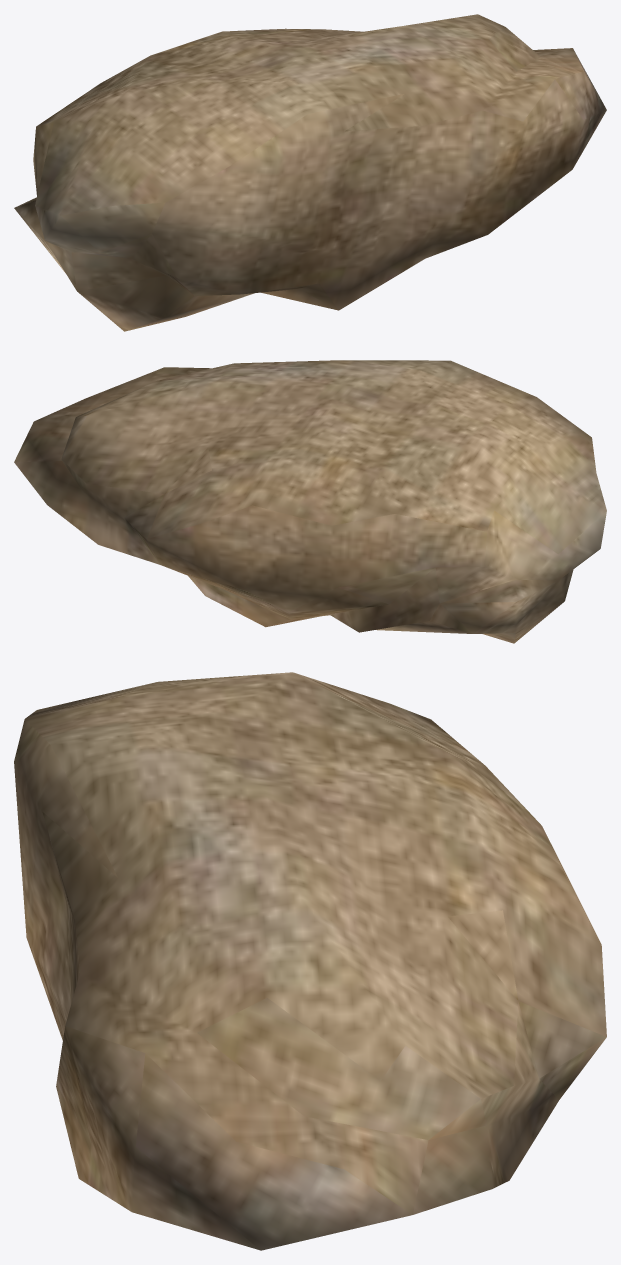
The model's file is rock_c_far.glb.
3 views of the same model, one above another, from view 1: azimuth 30°, elevation 25°; view 2: azimuth 150°, elevation 25°; view 3: azimuth 270°, elevation 25° (orthographic). The views are drawn at different scales.
Parts seen in each view (by area): view 1: rock_c_far; view 2: rock_c_far; view 3: rock_c_far.
Boxes of the visible parts, <box> form: rock_c_far: <box>14,14,606,331</box>; rock_c_far: <box>14,360,606,643</box>; rock_c_far: <box>14,672,606,1250</box>.
Size of the model in its own units: 1.36 by 0.5365 by 0.7456.
1 material, 1 textured.
